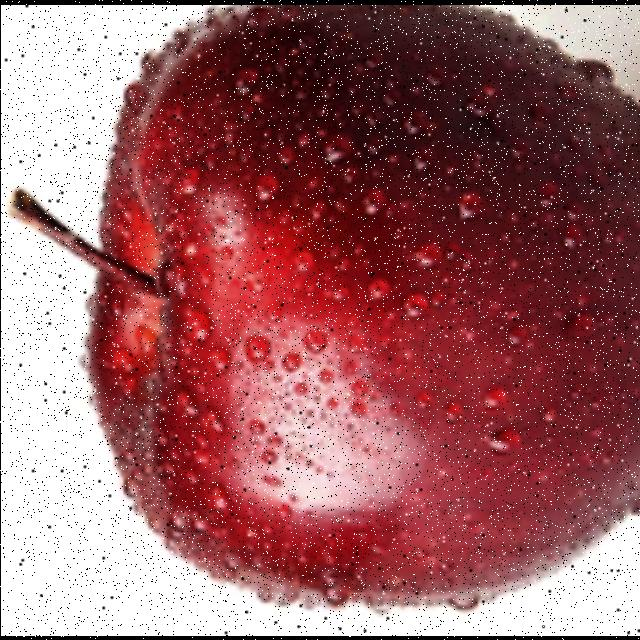Apel Segar: (2, 5, 640, 628)
